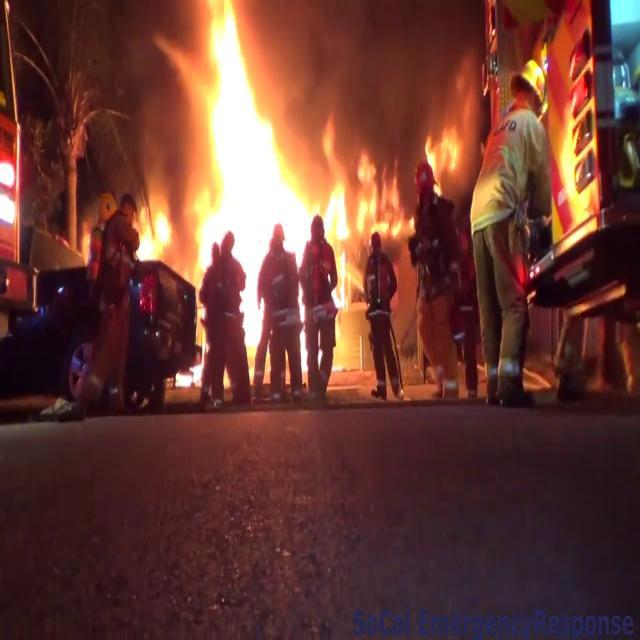Fire: (172, 2, 396, 389), (422, 122, 466, 194), (132, 197, 174, 271)
